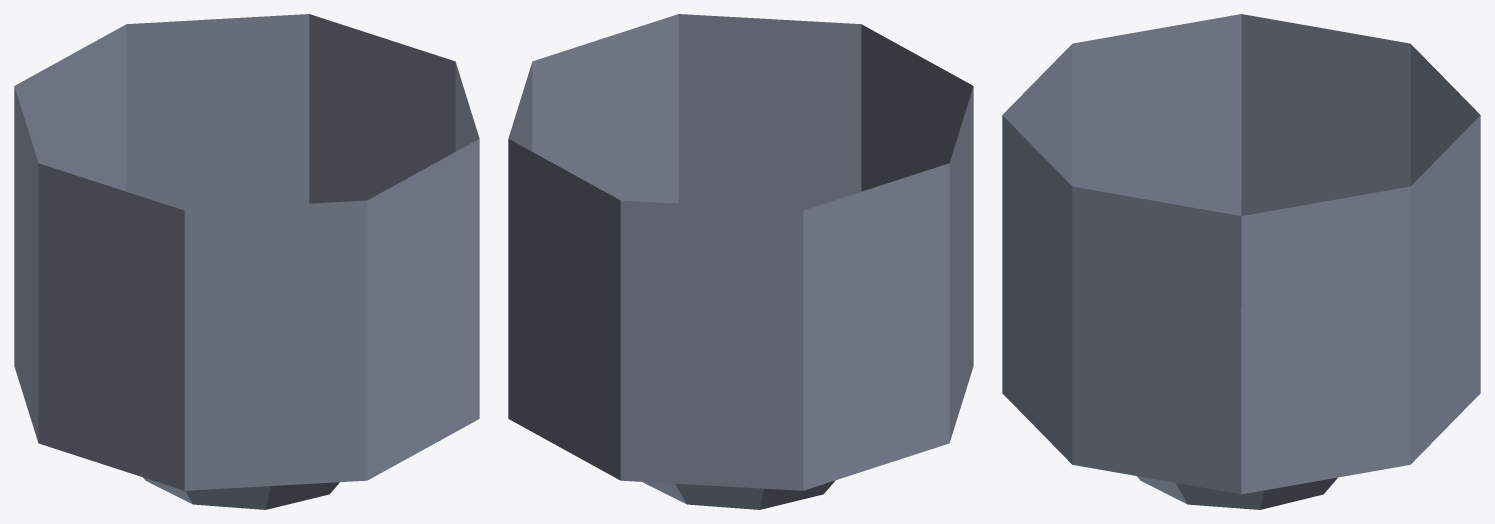
Rendered from lamp-1.fbx.
3 views of the same model, side by side, from view 1: azimuth 30°, elevation 25°; view 2: azimuth 150°, elevation 25°; view 3: azimuth 270°, elevation 25° (orthographic).
Parts seen in each view (by area): view 1: lamp-1; view 2: lamp-1; view 3: lamp-1.
Part boxes in pixels (left/top/right/bottom): lamp-1: left=14, top=14, right=479, bottom=509; lamp-1: left=508, top=14, right=973, bottom=509; lamp-1: left=1002, top=14, right=1480, bottom=509.
Bounding box in the file's own units: 156 × 138 × 156.
